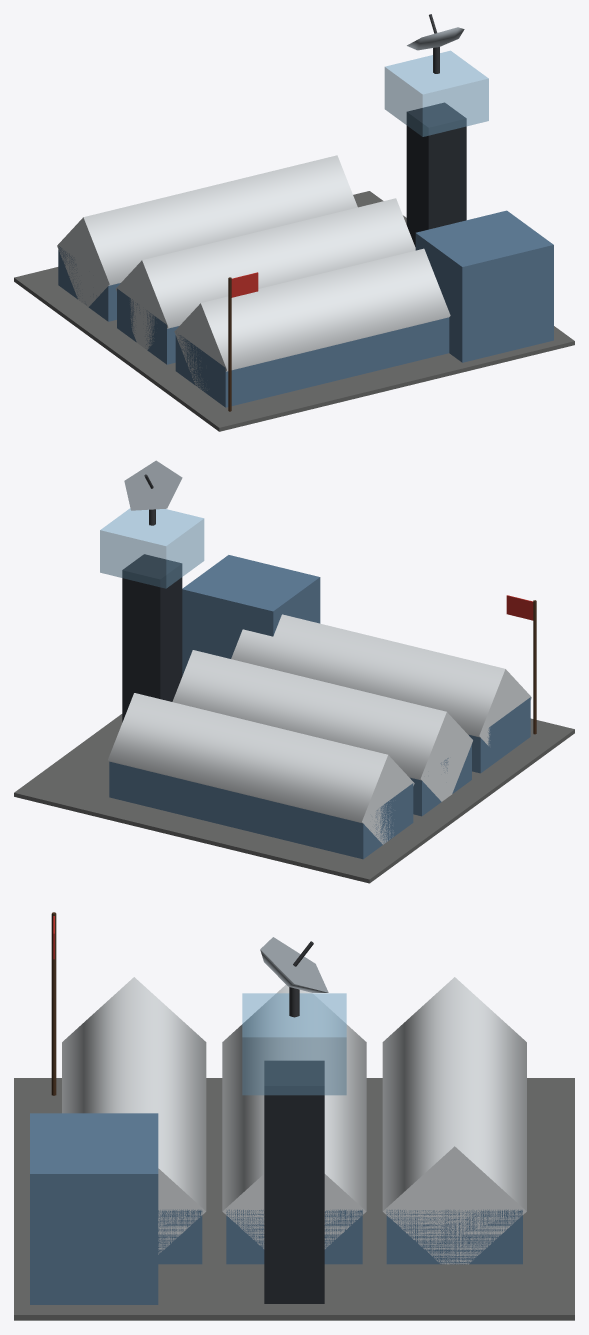
The model's file is bld_special_barracks_a09_lod2.glb.
The picture shows the model from 3 angles, top to bottom: view 1: azimuth 30°, elevation 25°; view 2: azimuth 150°, elevation 25°; view 3: azimuth 270°, elevation 25°; orthographic projection. The views are drawn at different scales.
Parts seen in each view (by area): view 1: body, antenna; view 2: body, antenna; view 3: body, antenna.
Boxes of the visible parts, <box> form: body: <box>14,50,574,431</box>; antenna: <box>407,14,464,73</box>; body: <box>14,508,574,883</box>; antenna: <box>124,460,182,525</box>; body: <box>14,912,574,1320</box>; antenna: <box>260,937,328,1017</box>.
Bounding box in the file's own units: 14 × 9.99 × 14.
